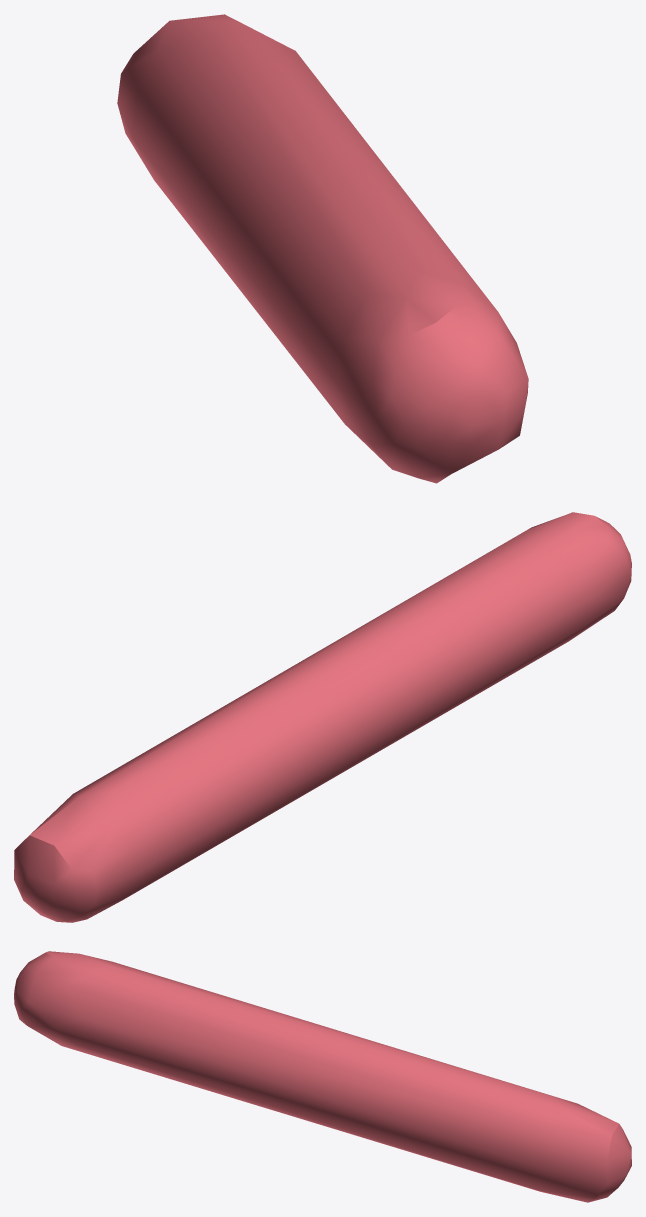
The model's file is fma5042_fj1935.glb.
3 views of the same model, one above another, from view 1: azimuth 30°, elevation 25°; view 2: azimuth 150°, elevation 25°; view 3: azimuth 270°, elevation 25° (orthographic). The views are drawn at different scales.
Visible parts, largest first — view 1: FMA5042_FJ1935; view 2: FMA5042_FJ1935; view 3: FMA5042_FJ1935.
Boxes of the visible parts, x1,y1,x2,y2 form: FMA5042_FJ1935: [117, 14, 528, 483]; FMA5042_FJ1935: [14, 512, 631, 922]; FMA5042_FJ1935: [14, 951, 631, 1202].
Size of the model in its own units: 0.00516 by 0.0038 by 0.0124.
